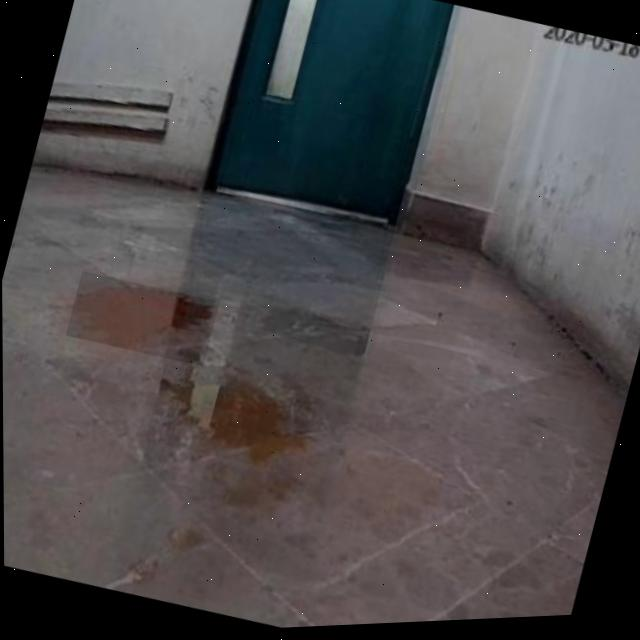spillage: (159, 385, 305, 468), (73, 285, 217, 350)
